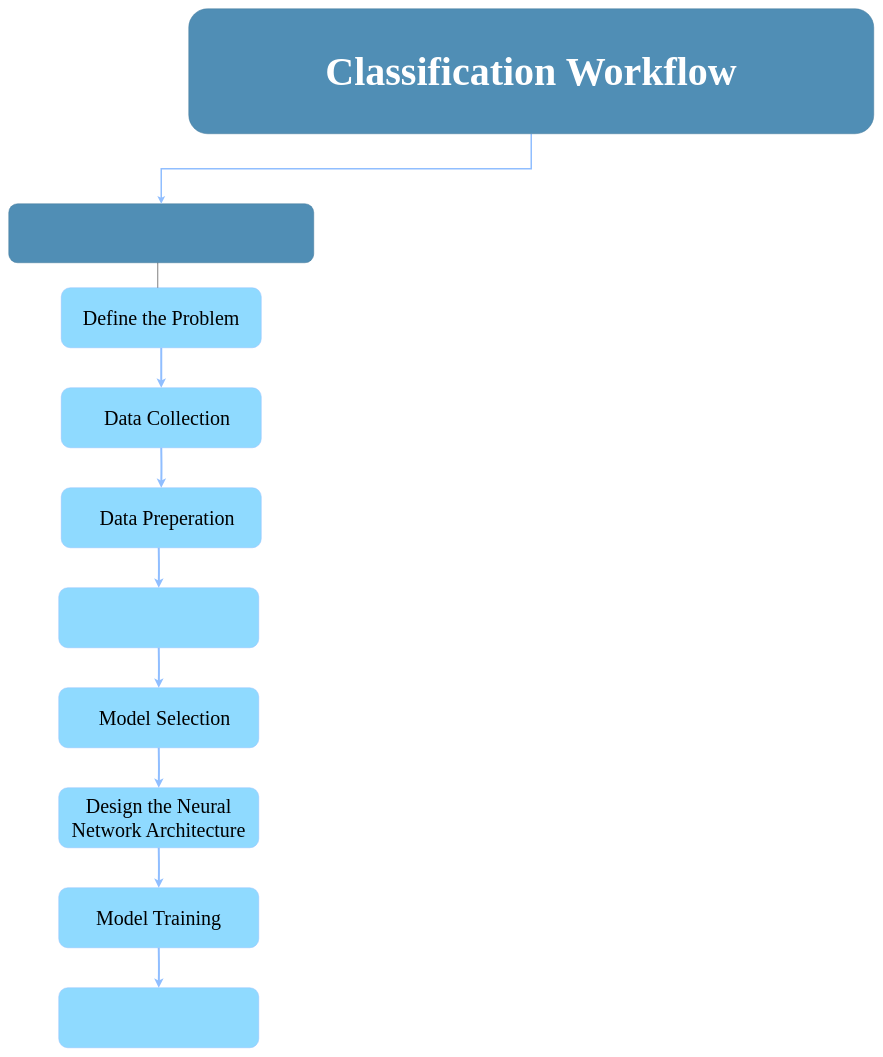
The diagram is 883 pixels wide and 1057 high, and some of its shapes have lost their labels. The shapes that lost their labels are listed below. From the top down, each one's centre as x and y in pixels, then its label:
(x=161, y=233): Image Classification
(x=158, y=617): Exploratory Data Analysis (EDA)
(x=158, y=1017): Model Evaluation
